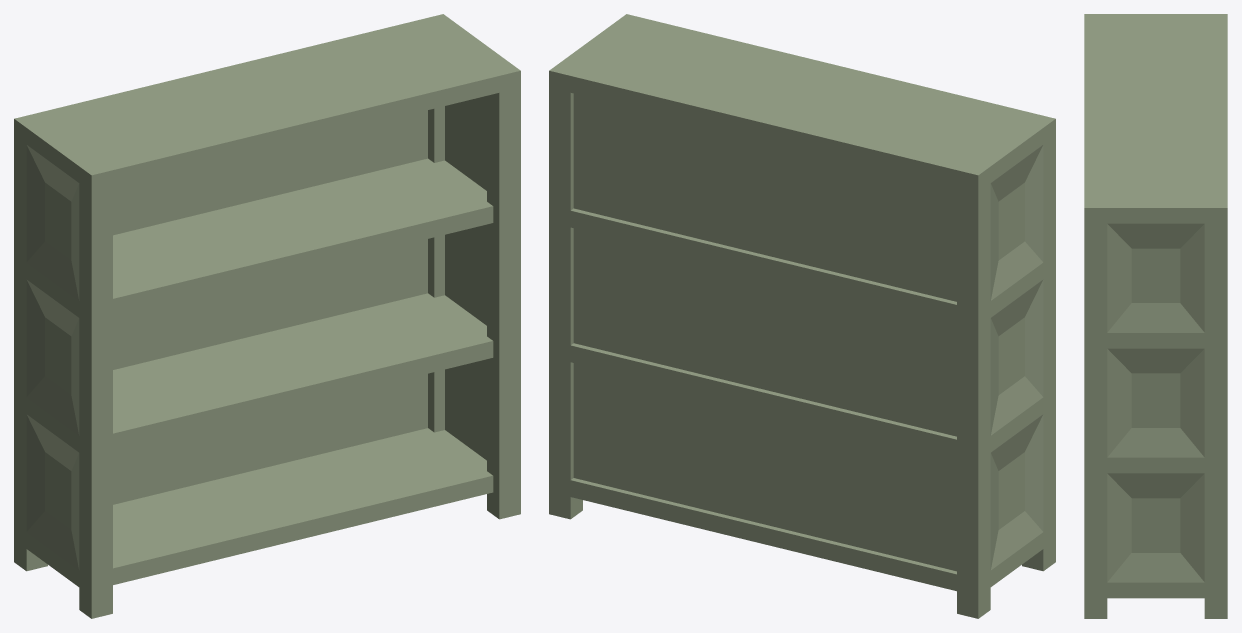
File: shelf_records.glb
3 views of the same model, side by side, from view 1: azimuth 30°, elevation 25°; view 2: azimuth 150°, elevation 25°; view 3: azimuth 270°, elevation 25° (orthographic). The views are drawn at different scales.
Parts seen in each view (by area): view 1: prop; view 2: prop; view 3: prop.
Part boxes in pixels (x1,y1,x2,y2): prop: (14,14,520,618); prop: (549,14,1055,618); prop: (1084,14,1227,618).
Size of the model in its own units: 1.6 by 1.58 by 0.5.
